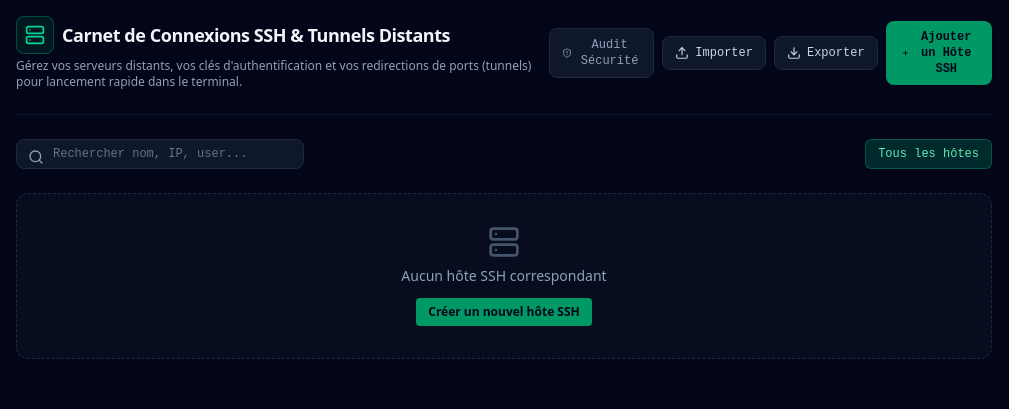
Test: SshHostManager Component › filters SSH hosts by search query
Type "Raspberry" into the field with placeholder "Rechercher nom, IP, user...". click: point(160, 154)
box: [16,139,304,169]
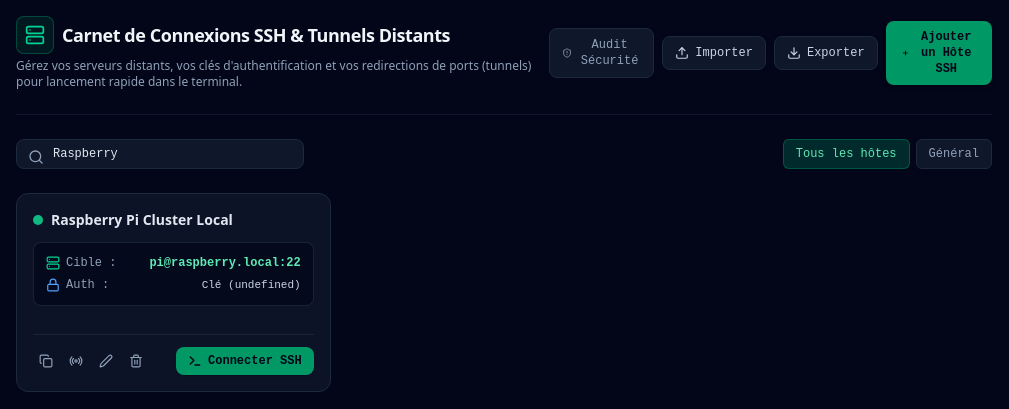
Expected: the heading "Raspberry Pi Cluster Local" is shown, [51,210,233,230]
